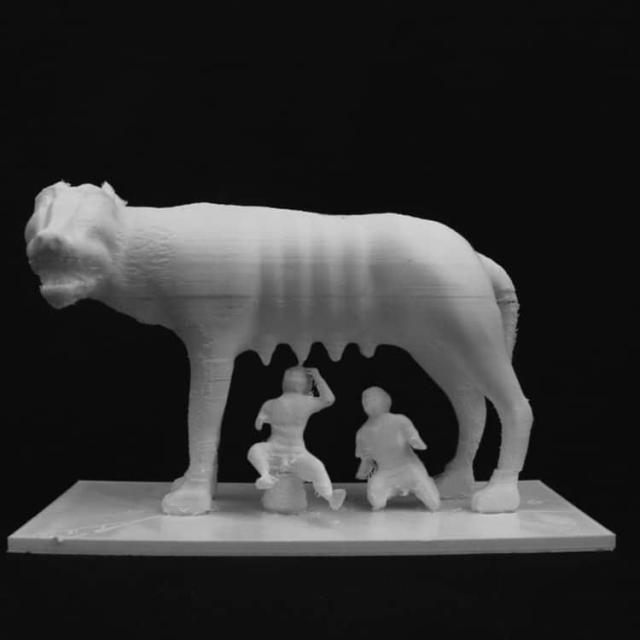Without deffect: (9, 169, 614, 572)
